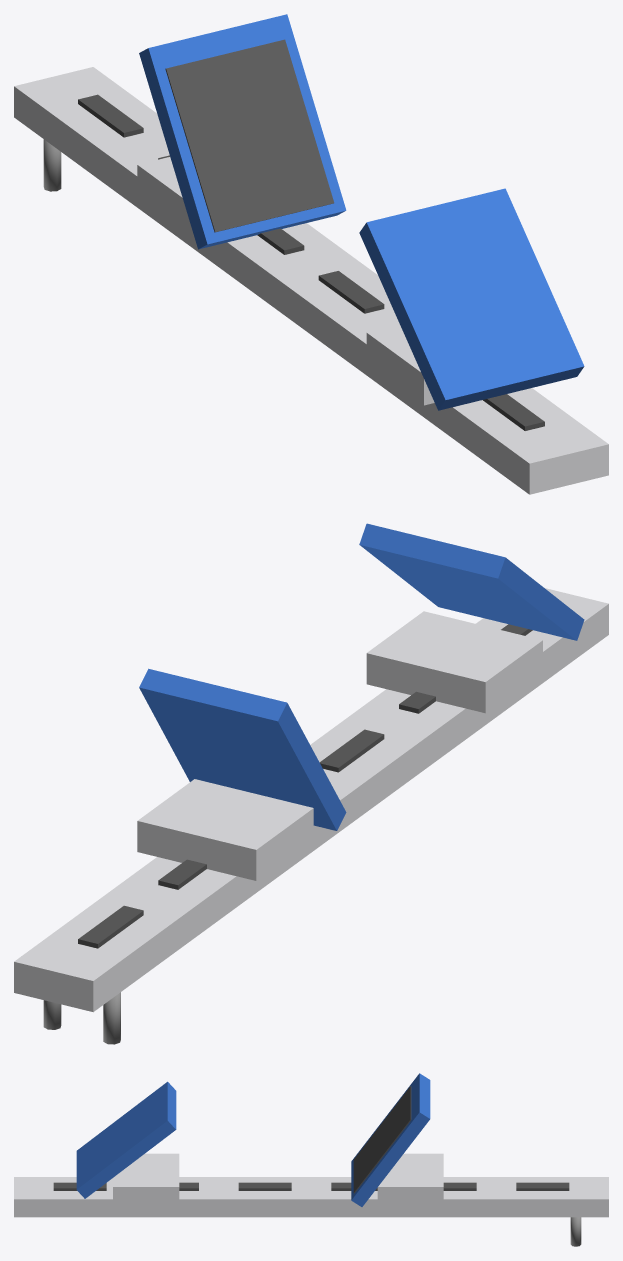
Rendered from  Starting blocks.glb.
The picture shows the model from 3 angles, top to bottom: view 1: azimuth 30°, elevation 25°; view 2: azimuth 150°, elevation 25°; view 3: azimuth 270°, elevation 25°; orthographic projection. The views are drawn at different scales.
Visible parts, largest first — view 1: MetaAthletics_Block_Rail, MetaAthletics_Block_PedalPlate_Rear, MetaAthletics_Block_GripPad_Front, MetaAthletics_Block_PedalPlate_Front, MetaAthletics_Block_Clamp_Rear, MetaAthletics_Block_Clamp_Front, MetaAthletics_Block_Slot_2, MetaAthletics_Block_Slot_5, MetaAthletics_Block_Slot_0, MetaAthletics_Block_Spike_-0.03, MetaAthletics_Block_Slot_3; view 2: MetaAthletics_Block_Rail, MetaAthletics_Block_PedalPlate_Front, MetaAthletics_Block_Clamp_Rear, MetaAthletics_Block_Clamp_Front, MetaAthletics_Block_PedalPlate_Rear, MetaAthletics_Block_Slot_5, MetaAthletics_Block_Slot_2, MetaAthletics_Block_Spike_-0.03, MetaAthletics_Block_Slot_4; view 3: MetaAthletics_Block_Rail, MetaAthletics_Block_PedalPlate_Rear, MetaAthletics_Block_Clamp_Rear, MetaAthletics_Block_Clamp_Front, MetaAthletics_Block_PedalPlate_Front, MetaAthletics_Block_GripPad_Front, MetaAthletics_Block_Slot_2, MetaAthletics_Block_Slot_5, MetaAthletics_Block_Spike_0.03, MetaAthletics_Block_Slot_4, MetaAthletics_Block_Slot_0.
Part boxes in pixels (x1,y1,x2,y2): MetaAthletics_Block_Rail: (14, 67, 608, 494); MetaAthletics_Block_PedalPlate_Rear: (359, 188, 584, 410); MetaAthletics_Block_GripPad_Front: (165, 39, 334, 232); MetaAthletics_Block_PedalPlate_Front: (139, 14, 346, 249); MetaAthletics_Block_Clamp_Rear: (366, 324, 434, 405); MetaAthletics_Block_Clamp_Front: (137, 157, 194, 237); MetaAthletics_Block_Slot_2: (318, 271, 384, 313); MetaAthletics_Block_Slot_5: (78, 94, 143, 137); MetaAthletics_Block_Slot_0: (483, 394, 544, 430); MetaAthletics_Block_Spike_-0.03: (43, 139, 61, 191); MetaAthletics_Block_Slot_3: (257, 228, 304, 254); MetaAthletics_Block_Rail: (14, 588, 608, 1012); MetaAthletics_Block_PedalPlate_Front: (139, 668, 346, 830); MetaAthletics_Block_Clamp_Rear: (366, 611, 542, 713); MetaAthletics_Block_Clamp_Front: (137, 779, 313, 880); MetaAthletics_Block_PedalPlate_Rear: (359, 523, 584, 640); MetaAthletics_Block_Slot_5: (78, 905, 143, 948); MetaAthletics_Block_Slot_2: (319, 729, 384, 772); MetaAthletics_Block_Spike_-0.03: (103, 992, 120, 1044); MetaAthletics_Block_Slot_4: (158, 859, 206, 889); MetaAthletics_Block_Rail: (14, 1177, 608, 1217); MetaAthletics_Block_PedalPlate_Rear: (76, 1081, 176, 1198); MetaAthletics_Block_Clamp_Rear: (113, 1153, 179, 1204); MetaAthletics_Block_Clamp_Front: (377, 1153, 443, 1204); MetaAthletics_Block_PedalPlate_Front: (351, 1073, 430, 1206); MetaAthletics_Block_GripPad_Front: (353, 1086, 411, 1193); MetaAthletics_Block_Slot_2: (238, 1182, 291, 1190); MetaAthletics_Block_Slot_5: (516, 1182, 569, 1190); MetaAthletics_Block_Spike_0.03: (570, 1217, 581, 1246); MetaAthletics_Block_Slot_4: (443, 1182, 476, 1190); MetaAthletics_Block_Slot_0: (53, 1182, 106, 1190).
Size of the model in its own units: 0.14 by 0.2395 by 0.9.
